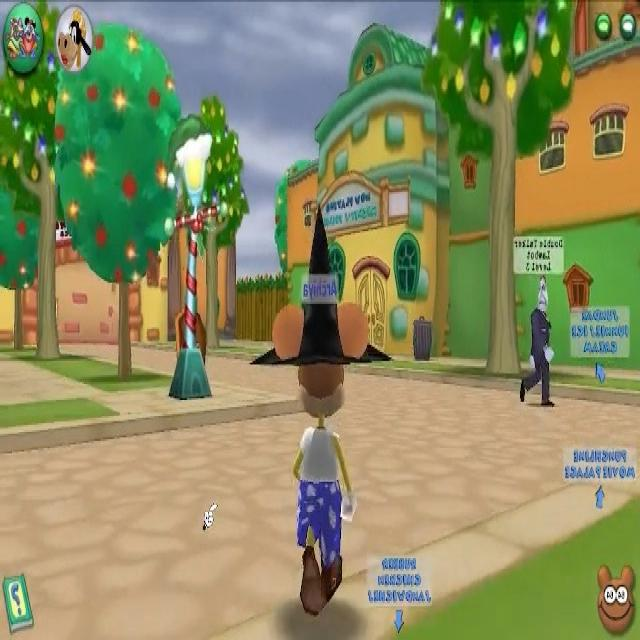doubletalker: (512, 235, 566, 408)
